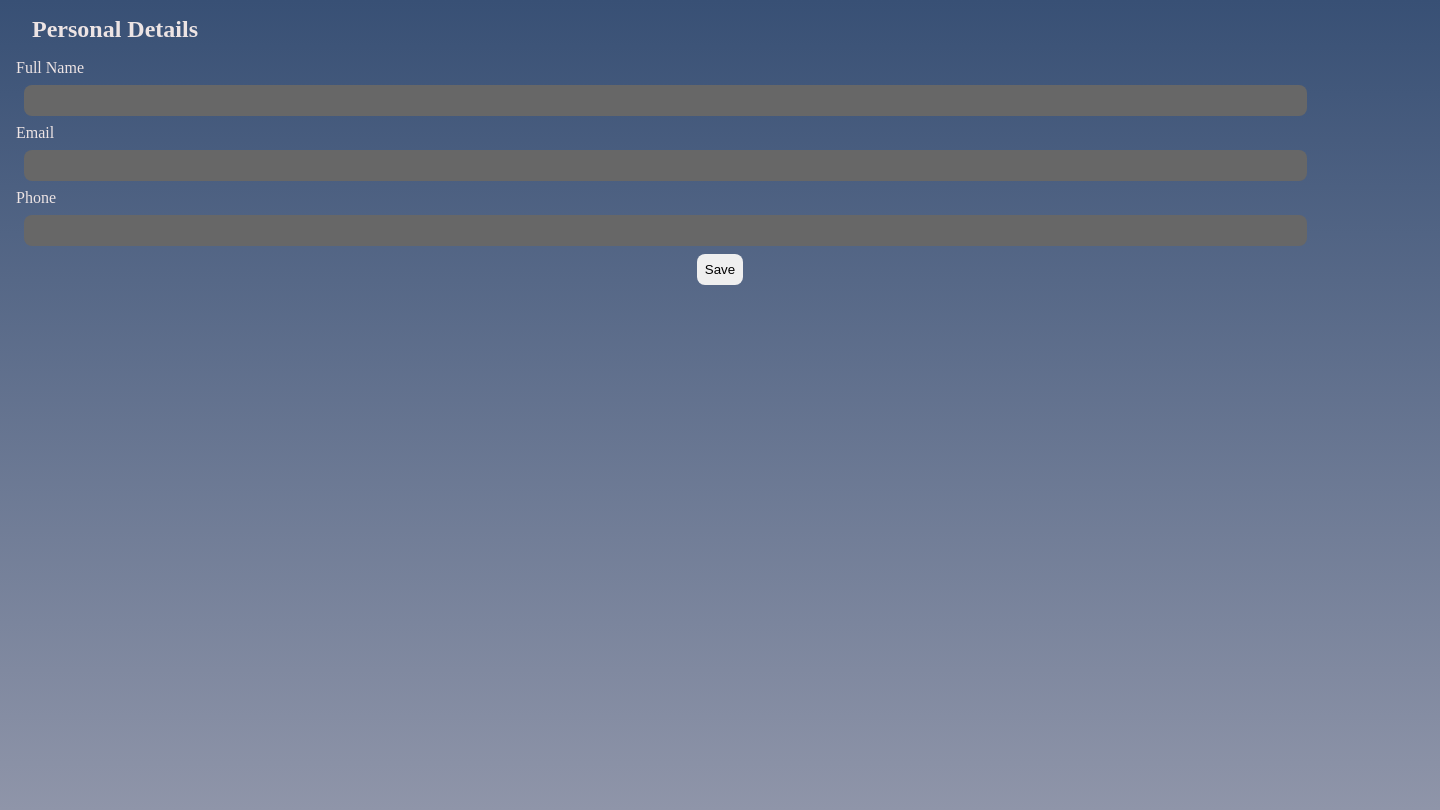
Test: shows success message when form is submitted successfully
In the field labelled "Full Name": point(666, 100) left=24, top=85, right=1307, bottom=116, type "Test user"
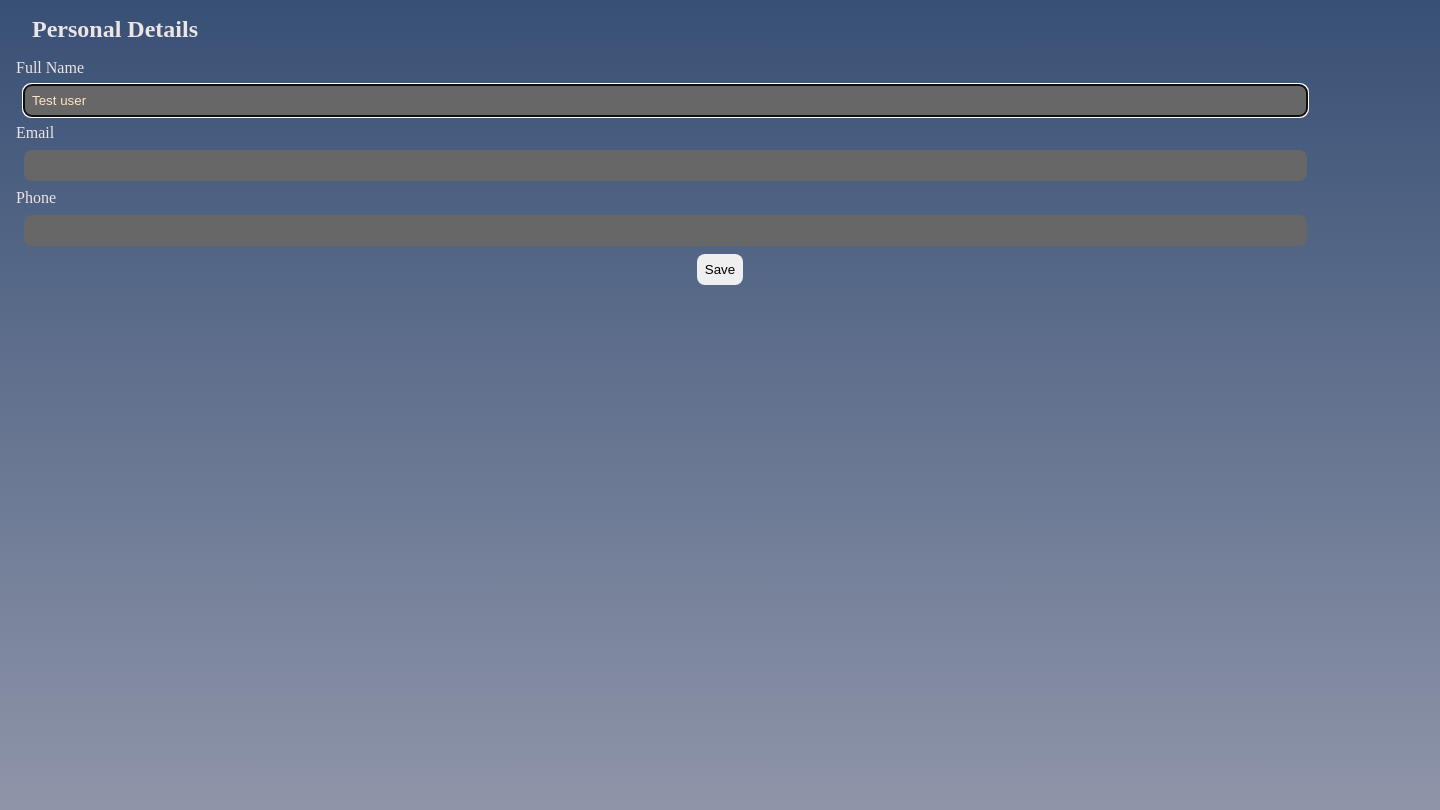
In the field labelled "Email": point(666, 166) left=24, top=150, right=1307, bottom=181, type "Test@gm.com"
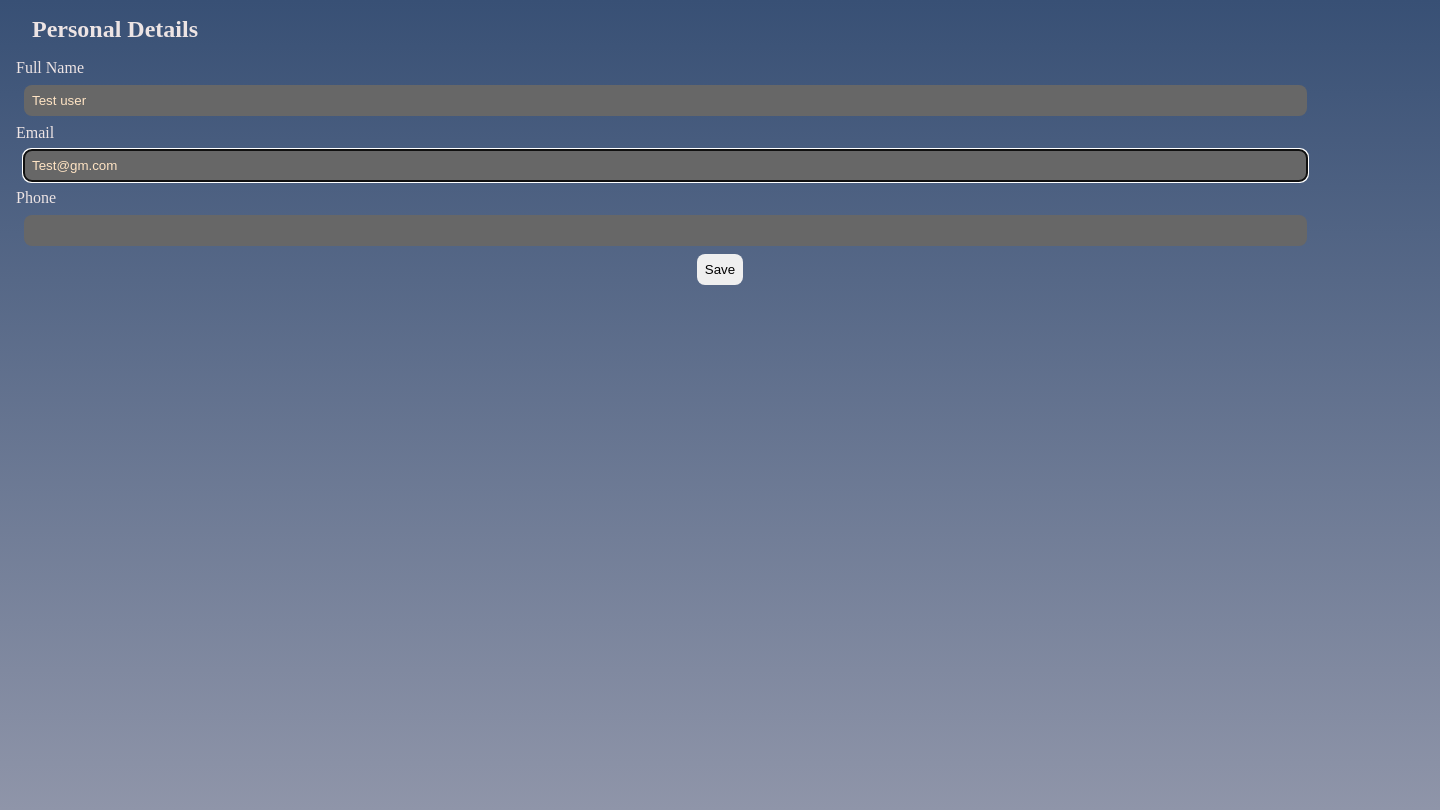
In the field labelled "Phone": point(666, 230) left=24, top=215, right=1307, bottom=246, type "123456"
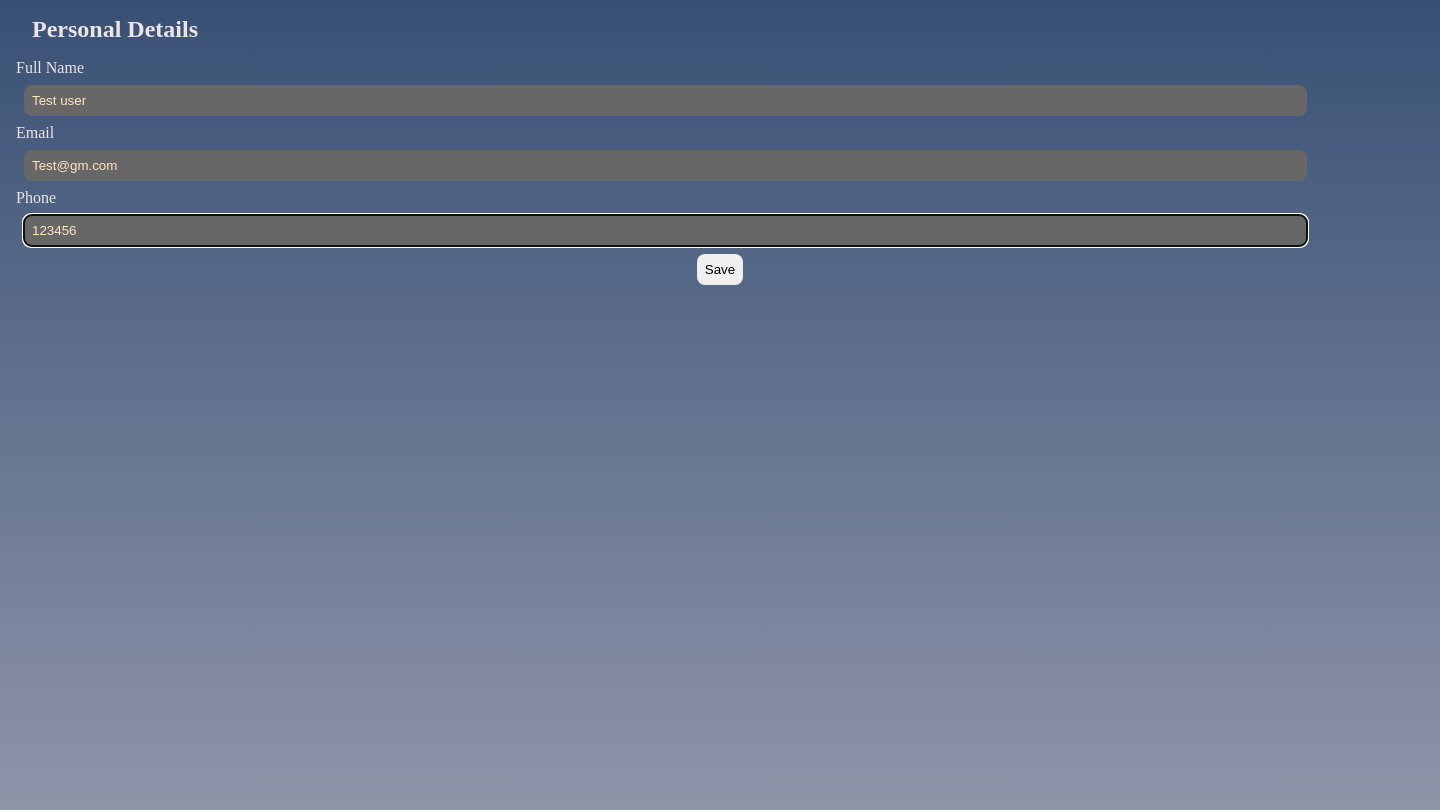
Click the button "Save": point(720, 270) left=697, top=254, right=743, bottom=285
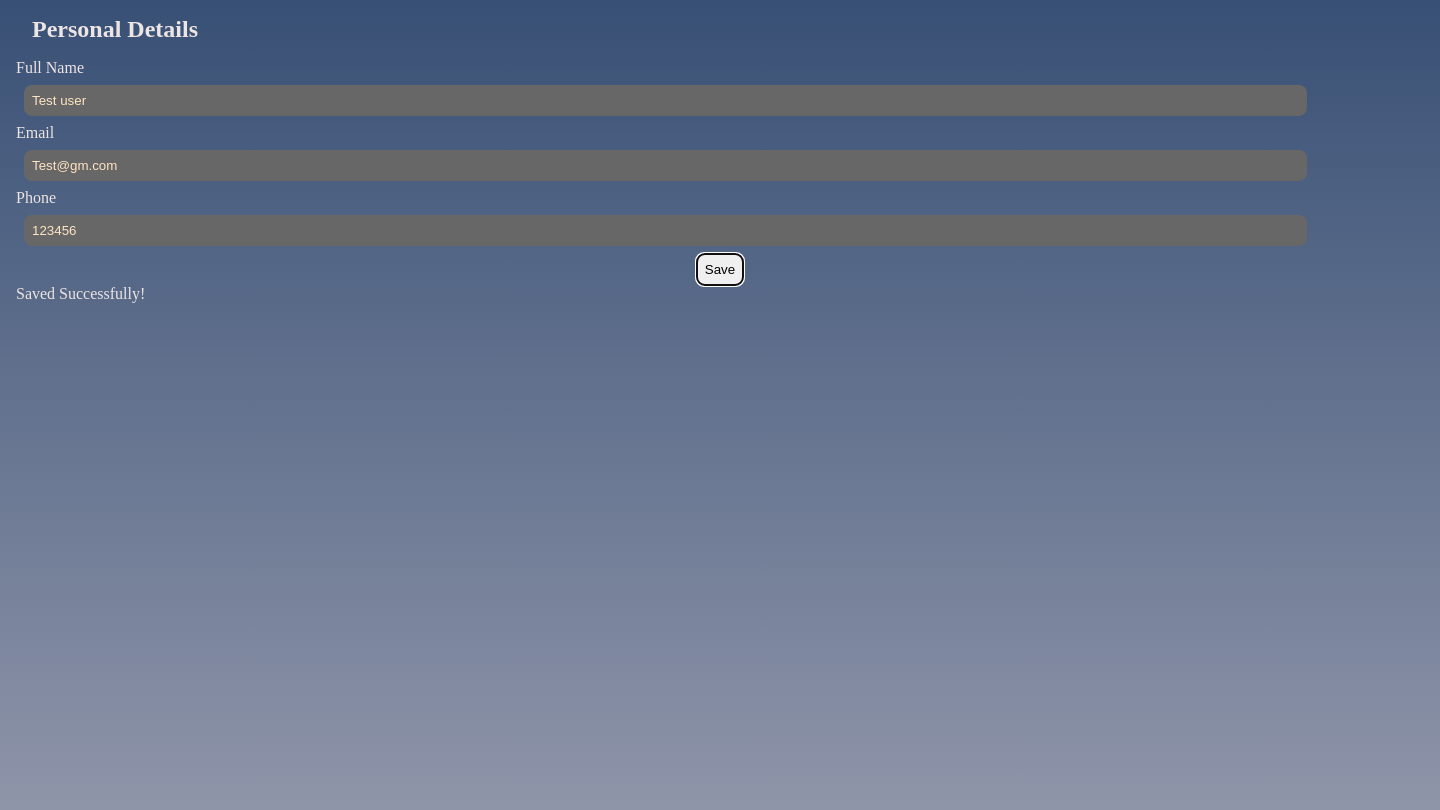
Check: the text "Saved Successfully!" is shown, box left=16, top=285, right=145, bottom=302
